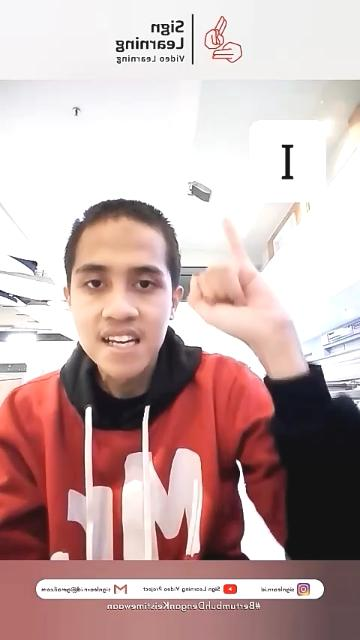I: (186, 210, 288, 346)
